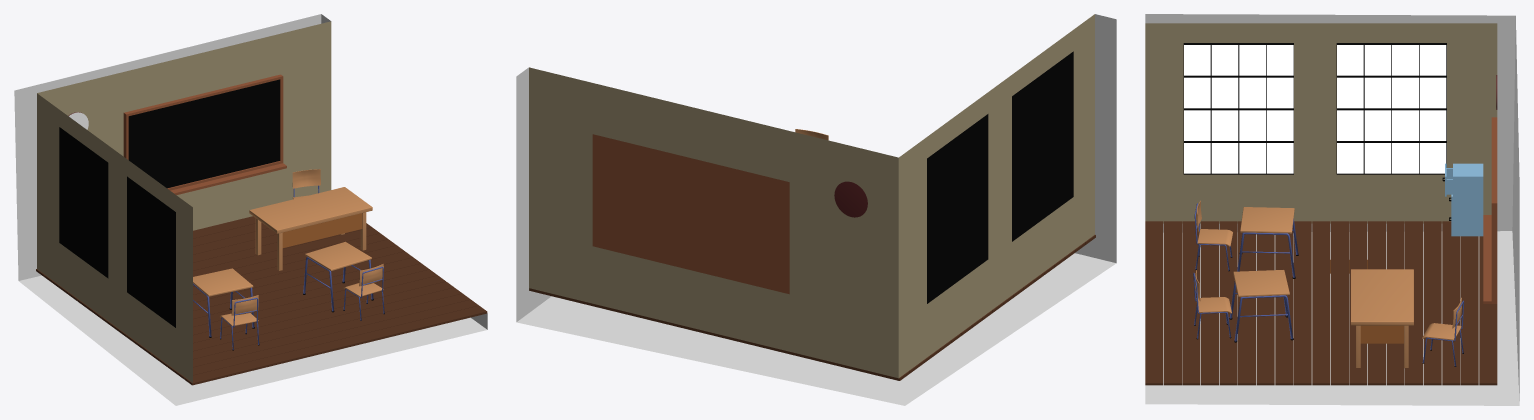
The model's file is classroom.glb.
3 renders of one model, left to right at view 1: azimuth 30°, elevation 25°; view 2: azimuth 150°, elevation 25°; view 3: azimuth 270°, elevation 25°, orthographic. The views are drawn at different scales.
Parts seen in each view (by area): view 1: Plane.021, Plane.022, Plane, Plane.023, Plane.011, Plane.010, Plane.003, Plane.002, Plane.005, Plane.018, Plane.019, Plane.004 (+1 smaller); view 2: Plane.021, Plane.002, Plane, Plane.010, Plane.011, Plane.020, Plane.022, Circle.019; view 3: Plane.022, Plane.021, Plane, Plane.025, Plane.024, Plane.003, Cube, Plane.010, Plane.011, Plane.002, Plane.018, Plane.019 (+7 smaller).
Part boxes in pixels (x1,y1,x2,y2): Plane.021: [37, 21, 331, 382]; Plane.022: [36, 216, 487, 385]; Plane: [14, 14, 486, 405]; Plane.023: [128, 79, 279, 188]; Plane.011: [59, 127, 108, 278]; Plane.010: [127, 176, 175, 327]; Plane.003: [249, 187, 372, 233]; Plane.002: [123, 74, 286, 194]; Plane.005: [282, 213, 362, 247]; Plane.018: [305, 241, 371, 271]; Plane.019: [193, 268, 253, 296]; Plane.004: [255, 212, 366, 270]; Plane.021: [529, 14, 1094, 378]; Plane.002: [592, 134, 789, 294]; Plane: [516, 253, 1115, 405]; Plane.010: [1012, 51, 1073, 241]; Plane.011: [927, 114, 988, 303]; Plane.020: [516, 14, 1116, 321]; Plane.022: [529, 235, 1095, 380]; Circle.019: [834, 181, 867, 217]; Plane.022: [1145, 221, 1497, 385]; Plane.021: [1145, 23, 1497, 223]; Plane: [1145, 14, 1519, 405]; Plane.025: [1184, 45, 1293, 173]; Plane.024: [1337, 45, 1446, 173]; Plane.003: [1351, 269, 1413, 325]; Cube: [1453, 163, 1483, 236]; Plane.010: [1183, 43, 1293, 174]; Plane.011: [1336, 43, 1446, 174]; Plane.002: [1483, 117, 1497, 303]; Plane.018: [1233, 270, 1289, 297]; Plane.019: [1240, 207, 1294, 233].
Size of what is drawn, in the model's own units: 2.83 by 1.77 by 2.62.
